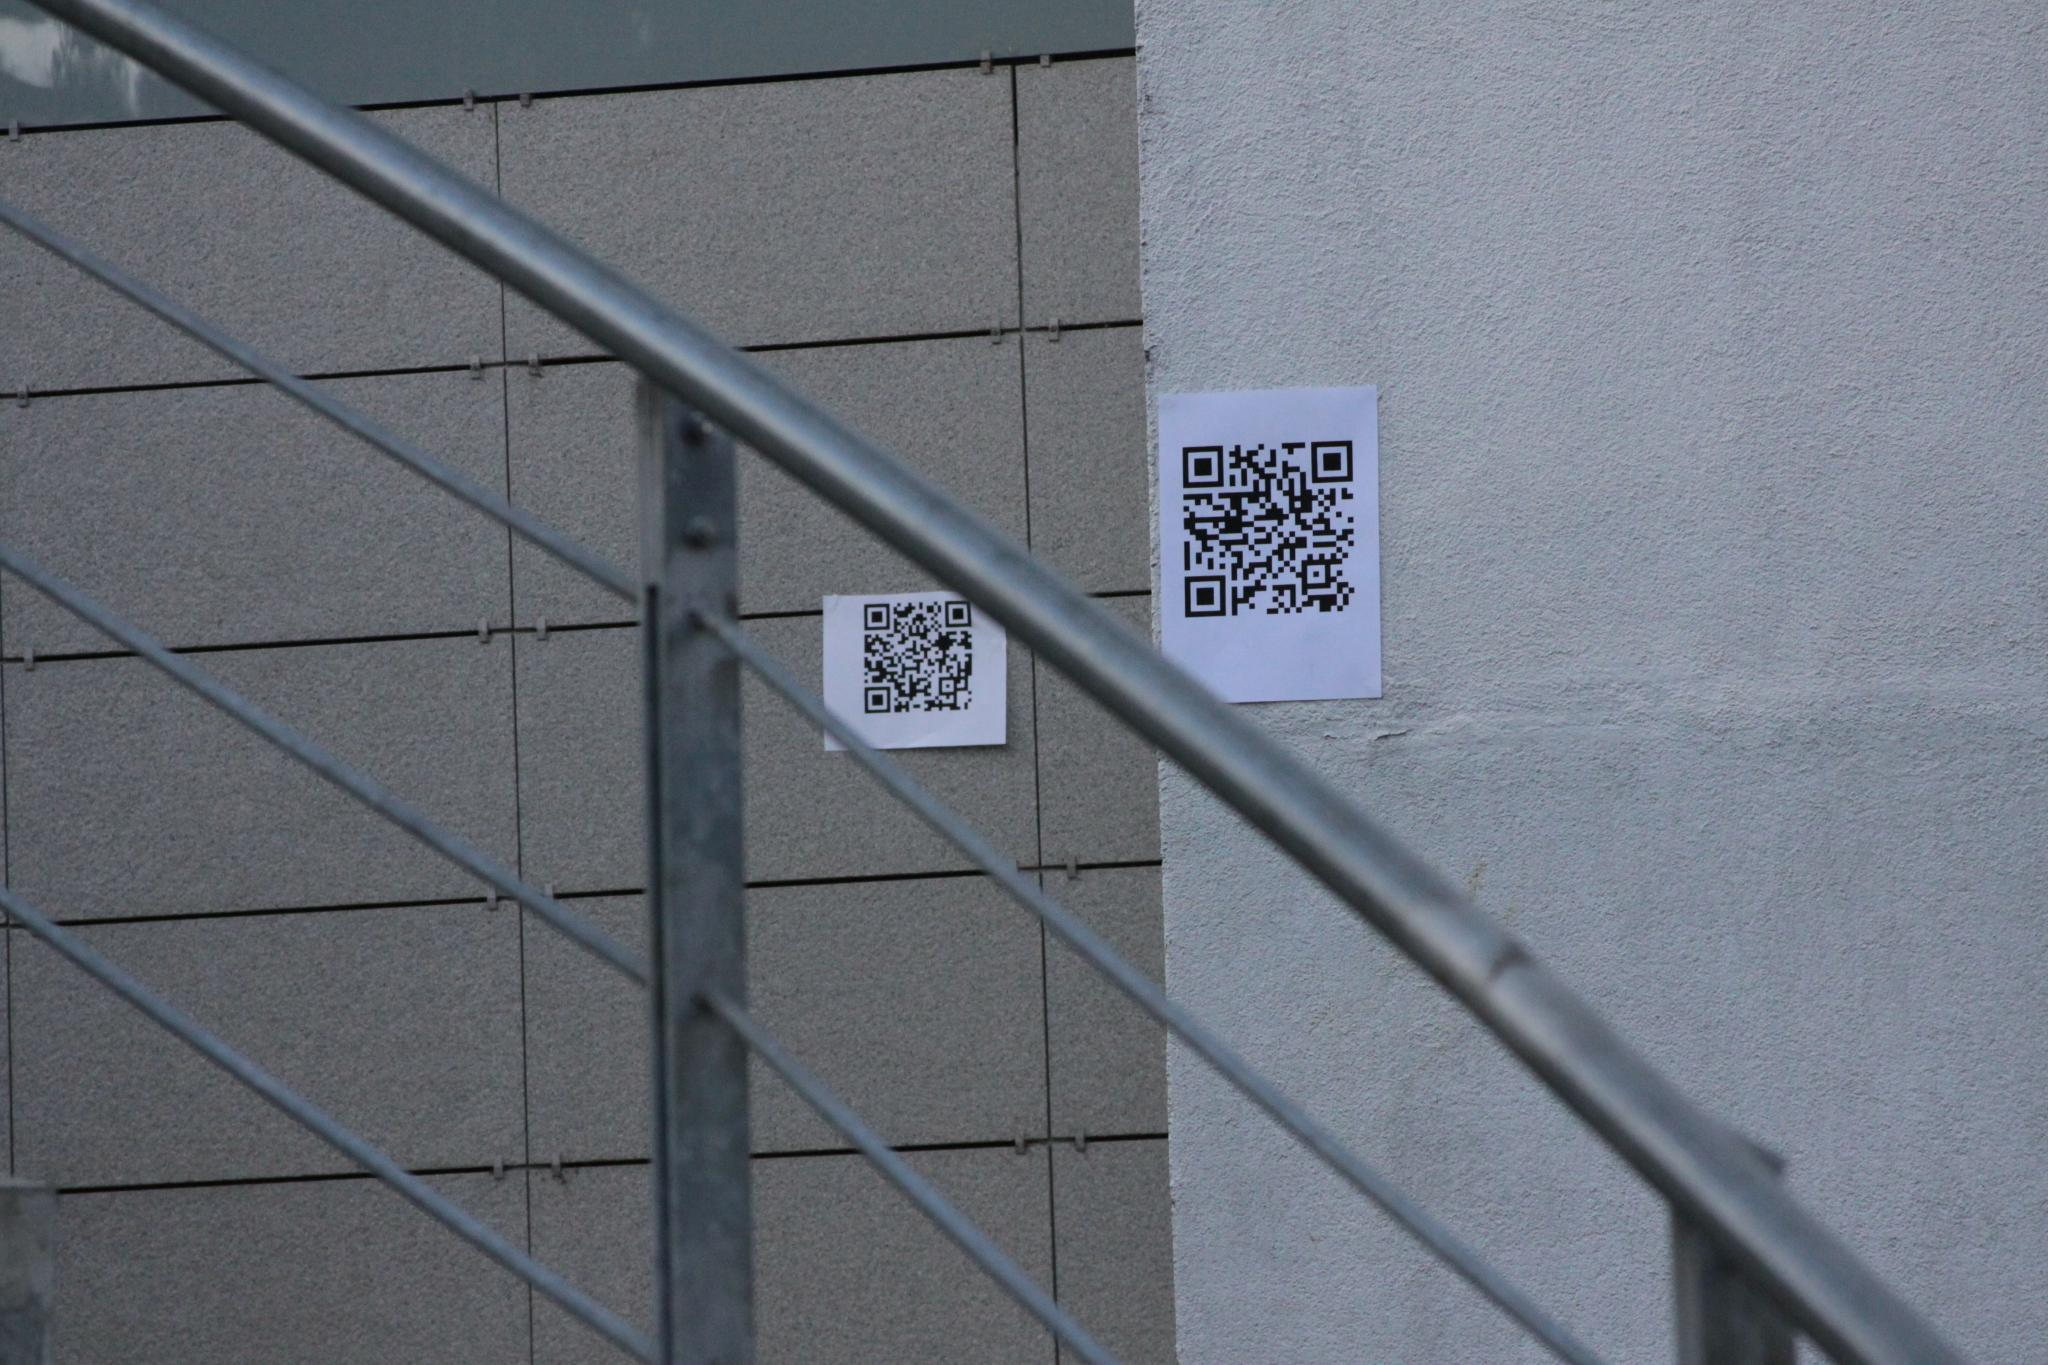Finder pattern: (1168, 433, 1230, 495), (1176, 568, 1233, 625), (1306, 433, 1360, 489), (857, 676, 898, 721), (854, 597, 895, 637), (939, 594, 971, 628)
